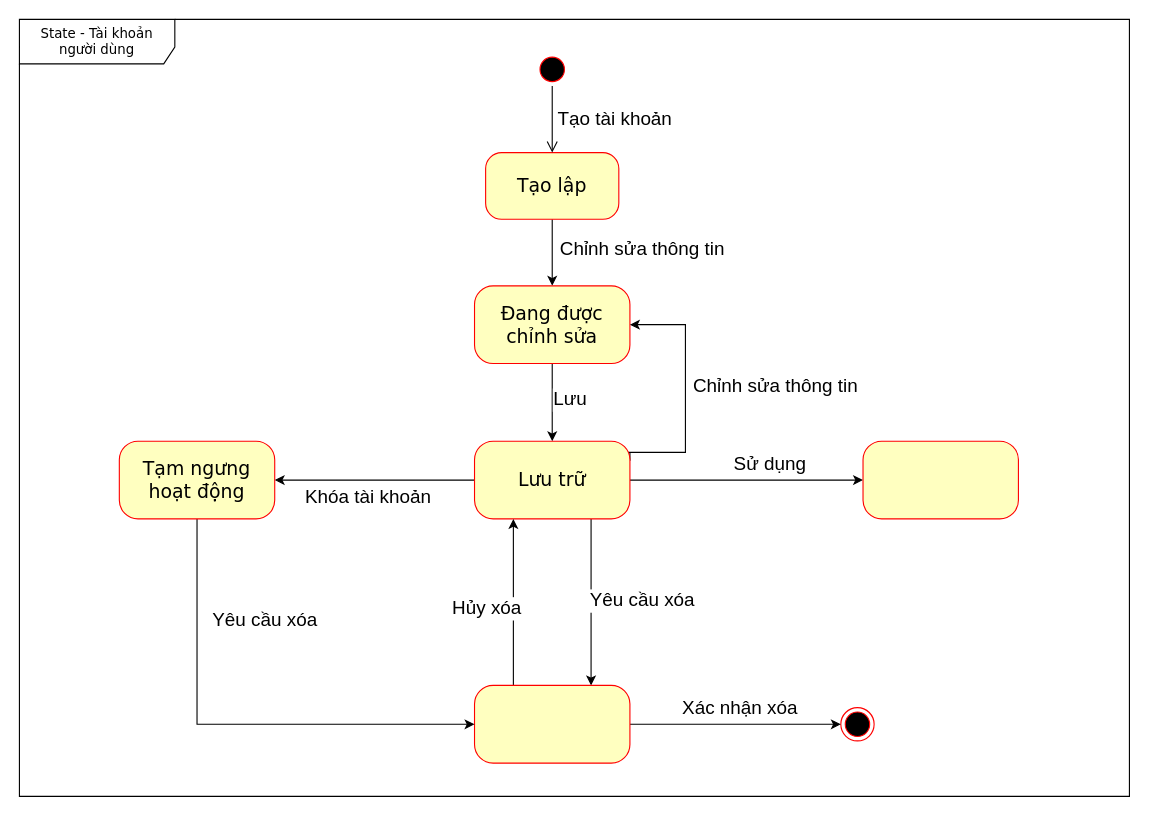
This 1149x816 diagram has some shape labels left out. Each missing label, with the centre of its shape:
"Chờ để xóa" goes at [551,723].
"Đang hoạt động" goes at [940,479].
